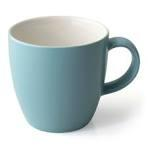cup: (9, 16, 139, 131)
